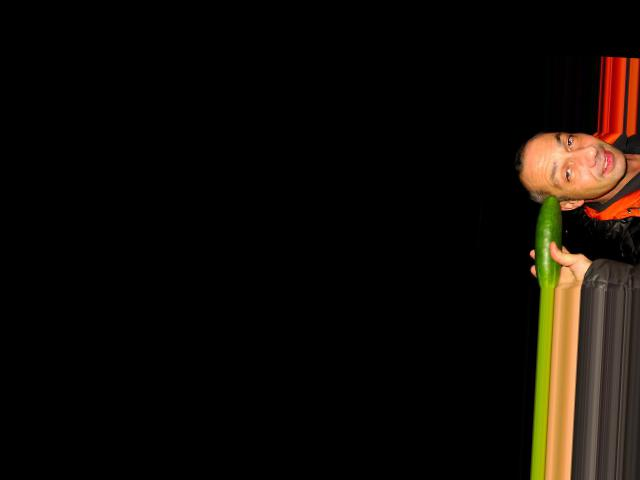cucumber: (532, 193, 564, 288)
